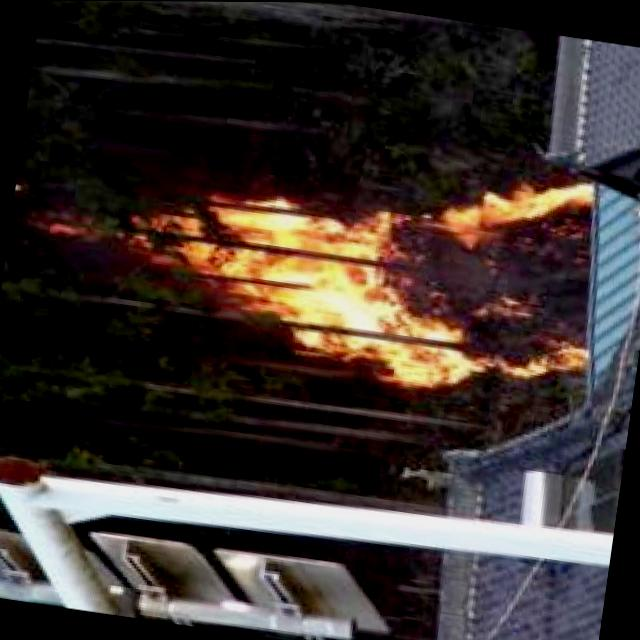Fire: (119, 119, 585, 406)
